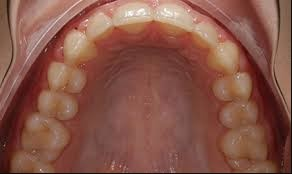UL1BC_healthy: (213, 74, 253, 99)
UL1M_healthy: (220, 129, 269, 164)
UL2BC_healthy: (222, 101, 261, 126)
ULCI_healthy: (155, 3, 192, 38)
ULC_healthy: (208, 43, 242, 74)
ULLI_healthy: (194, 23, 218, 50)
UR1BC_healthy: (47, 61, 88, 94)
UR1M_healthy: (26, 115, 69, 157)
UR2BC_healthy: (39, 89, 80, 121)
URCI_healthy: (114, 4, 155, 36)
URC_healthy: (65, 30, 96, 63)
URLI_healthy: (88, 12, 114, 39)
